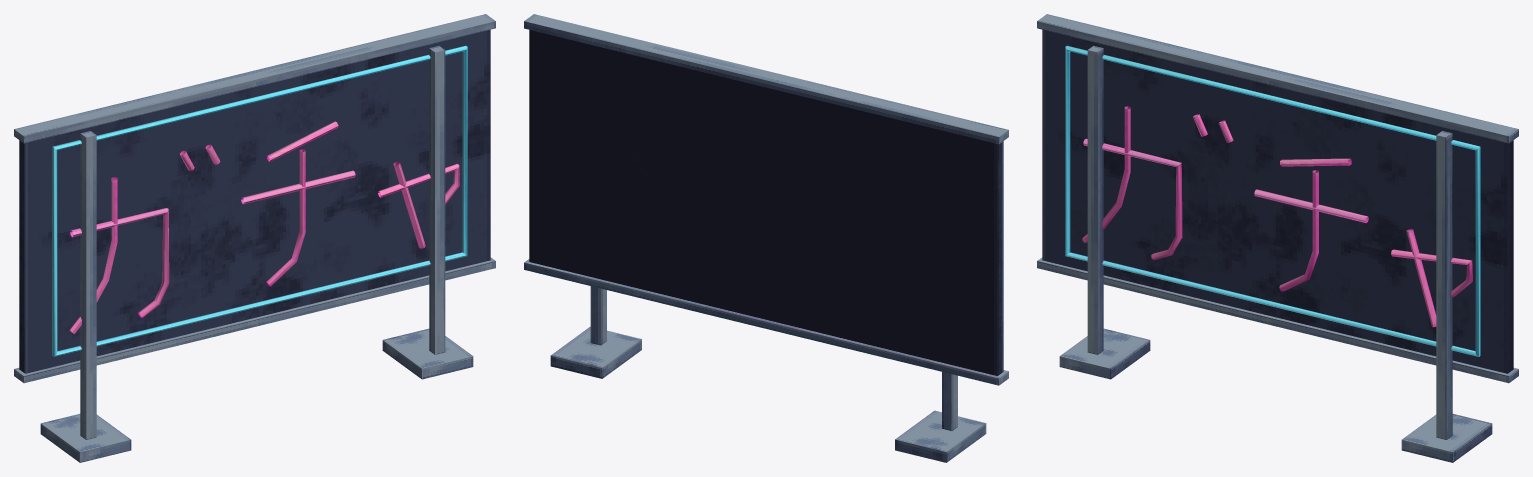
Rendered from neon_gacha_own.glb.
3 renders of one model, left to right at view 1: azimuth 30°, elevation 25°; view 2: azimuth 150°, elevation 25°; view 3: azimuth 330°, elevation 25°, orthographic.
Parts seen in each view (by area): view 1: mesh; view 2: mesh; view 3: mesh.
Part boxes in pixels (x1=…): mesh: x1=14, y1=14, x2=495, y2=462; mesh: x1=524, y1=14, x2=1008, y2=462; mesh: x1=1037, y1=14, x2=1518, y2=462.
Bounding box in the file's own units: 1.39 × 0.9101 × 0.2011.
1 material, 1 textured.
